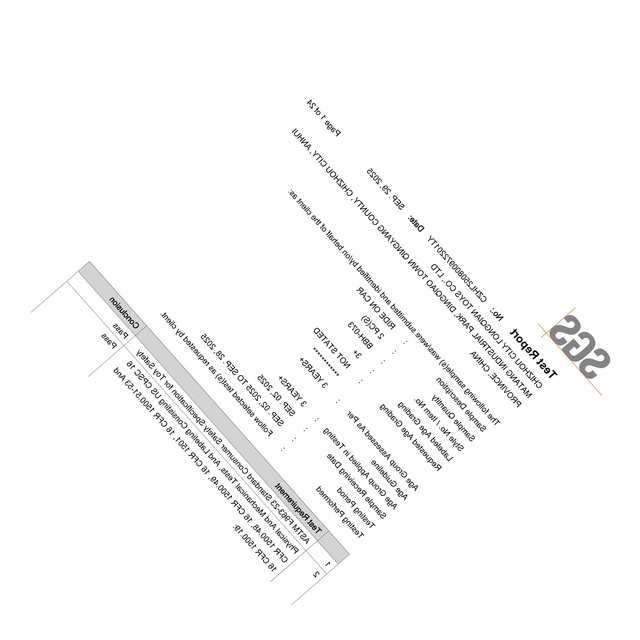sgs: (549, 313, 610, 379)
